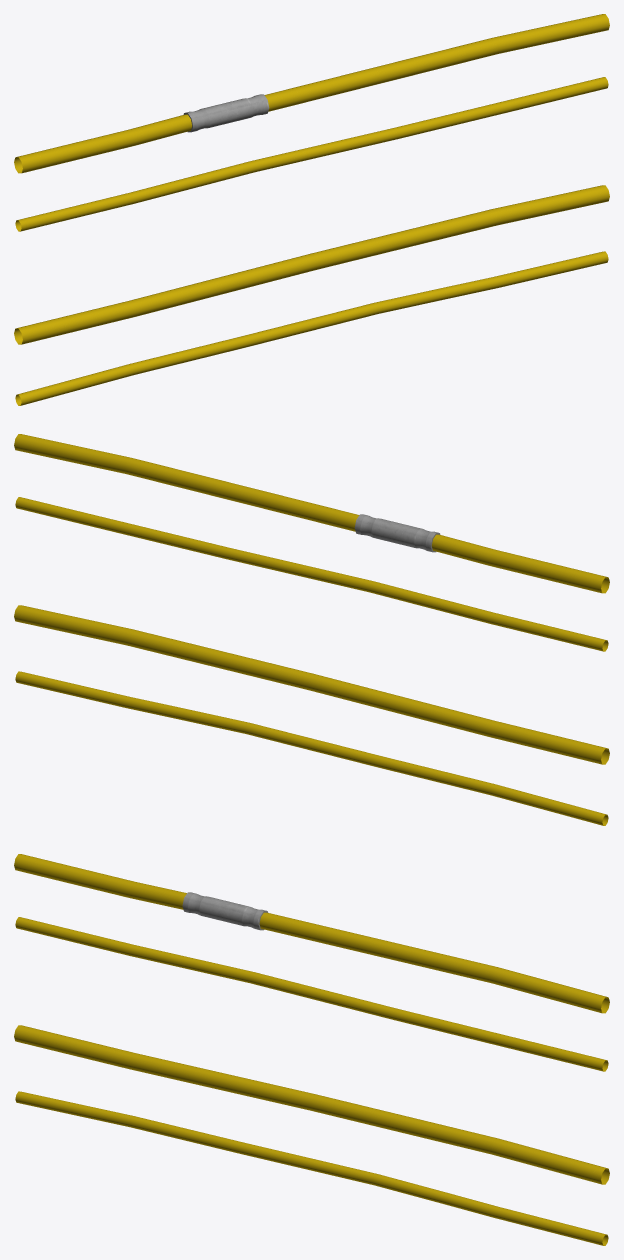
File: ElectricalWires02_02.glb
3 views of the same model, one above another, from view 1: azimuth 30°, elevation 25°; view 2: azimuth 150°, elevation 25°; view 3: azimuth 330°, elevation 25° (orthographic).
Parts seen in each view (by area): view 1: Circle_029; view 2: Circle_029; view 3: Circle_029.
Boxes of the visible parts, left/top/right/bottom form: Circle_029: left=14, top=14, right=609, bottom=405; Circle_029: left=14, top=434, right=609, bottom=825; Circle_029: left=14, top=854, right=609, bottom=1245.
Bounding box in the file's own units: 4 × 1.64 × 0.126.
1 material, 1 textured.
